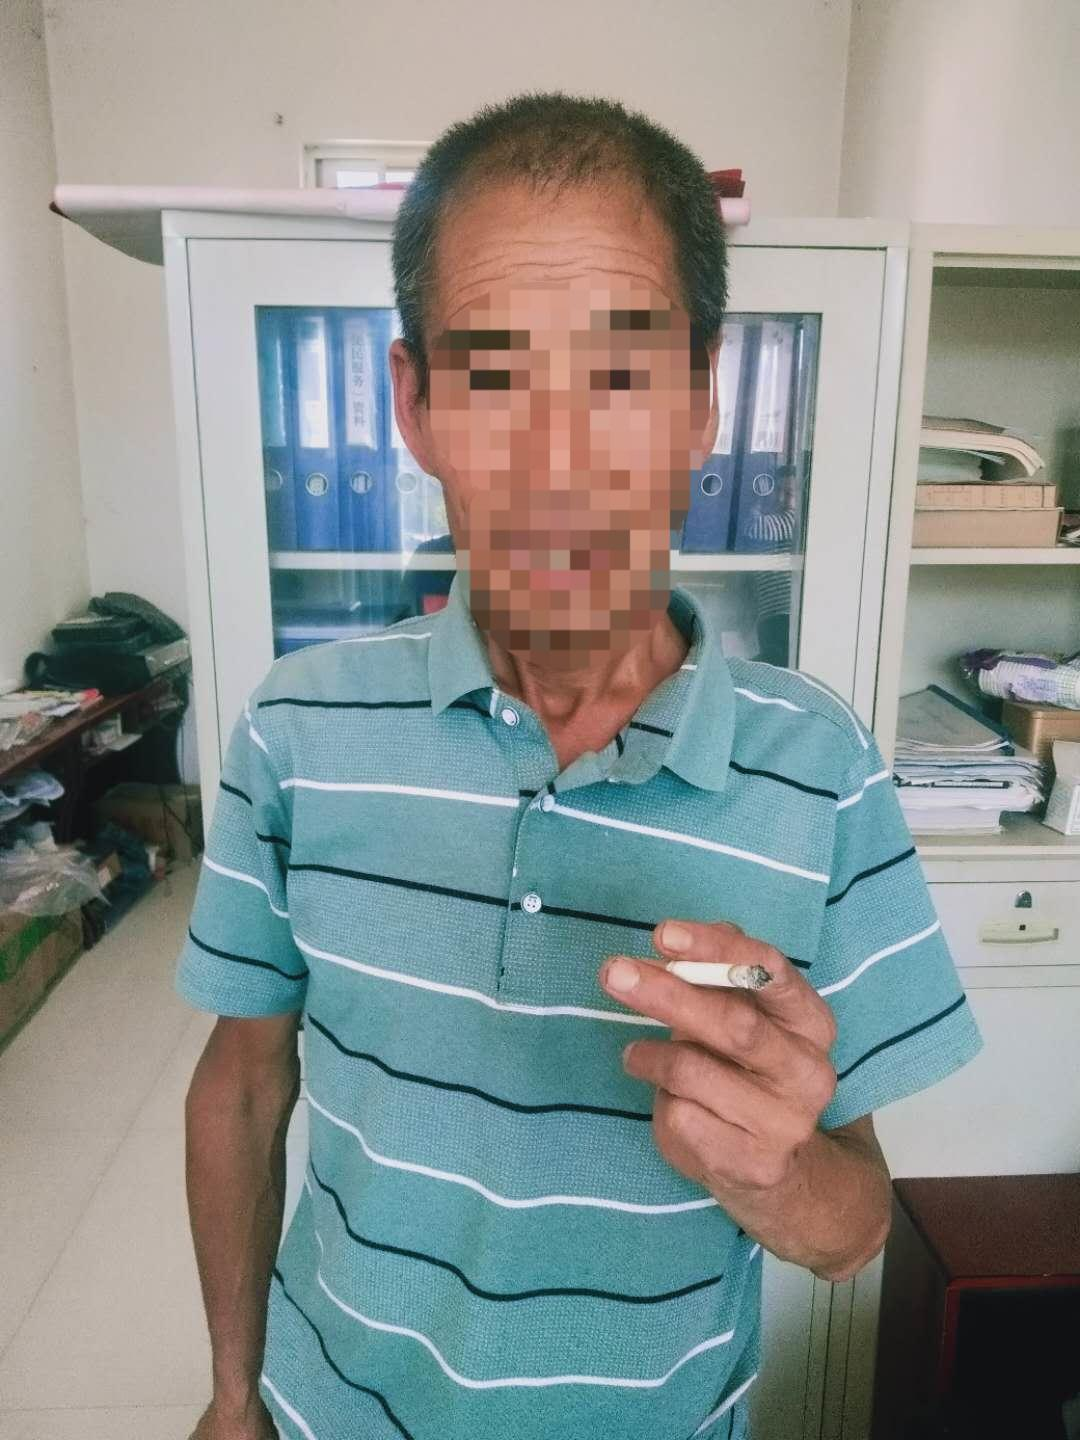smoke: (663, 955, 776, 998)
